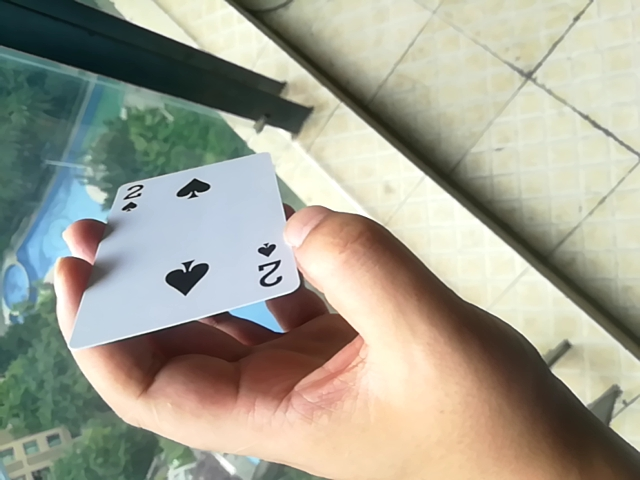ht 2: (61, 145, 301, 352)
